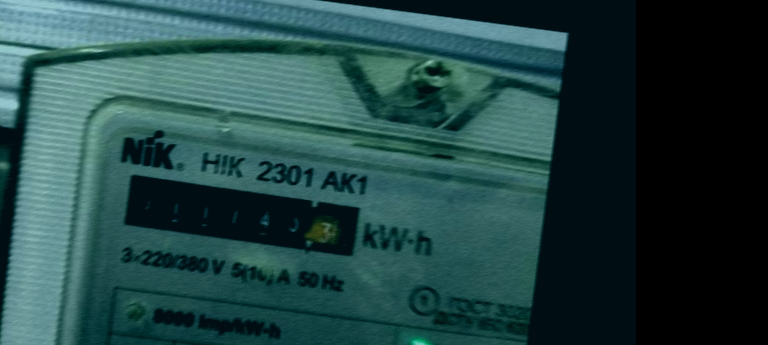0: (137, 185, 154, 214)
1: (197, 193, 213, 222), (169, 189, 182, 217)
3: (285, 207, 303, 236), (315, 220, 332, 247)
4: (255, 203, 273, 232)
7: (226, 196, 244, 226)
screen: (111, 163, 372, 269)
